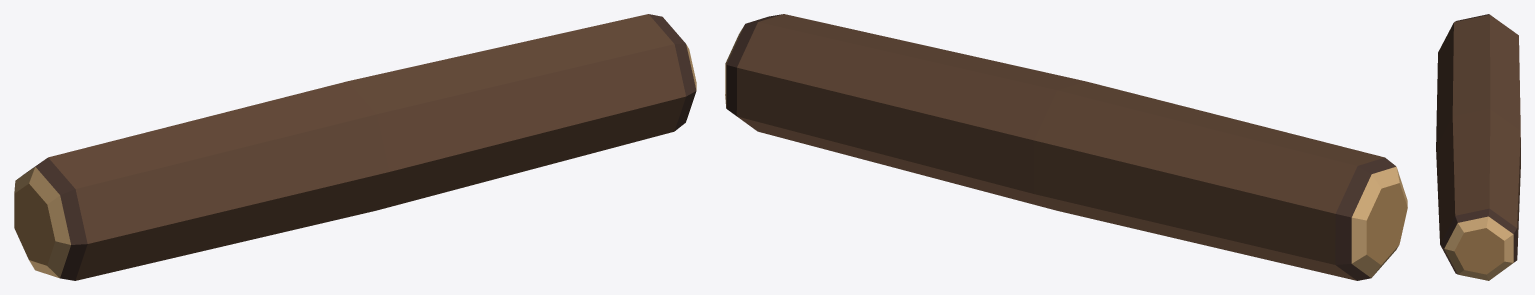
Rendered from log.glb.
3 renders of one model, left to right at view 1: azimuth 30°, elevation 25°; view 2: azimuth 150°, elevation 25°; view 3: azimuth 270°, elevation 25°, orthographic. The views are drawn at different scales.
Visible parts, largest first — view 1: log; view 2: log; view 3: log.
Part boxes in pixels (<box>): log: <box>14,14,696,280</box>; log: <box>725,14,1407,280</box>; log: <box>1436,14,1520,280</box>.
Bounding box in the file's own units: 2.4 × 0.429 × 0.4186.
Materials: 1 (1 with a texture image).
